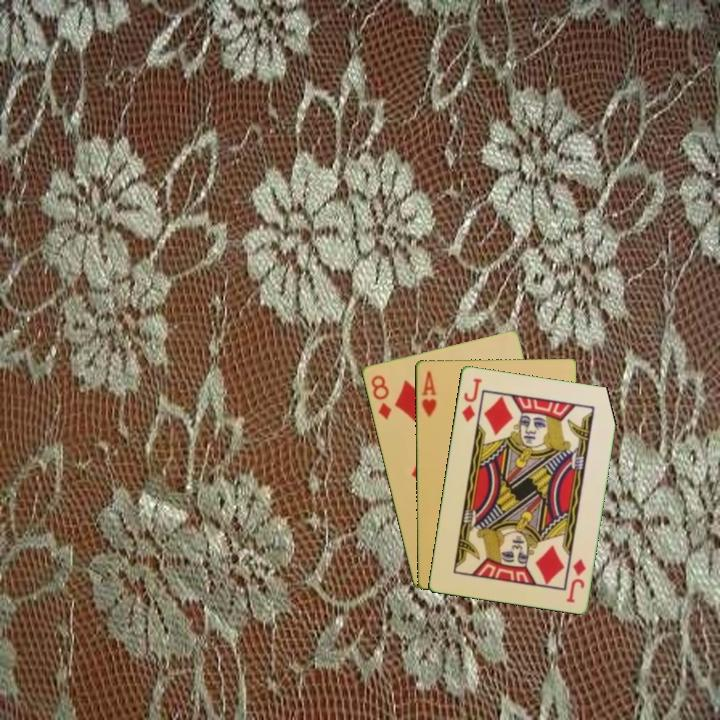8d: (367, 371, 394, 422)
Ah: (418, 367, 439, 419)
Jd: (458, 374, 484, 424), (563, 555, 588, 605)
